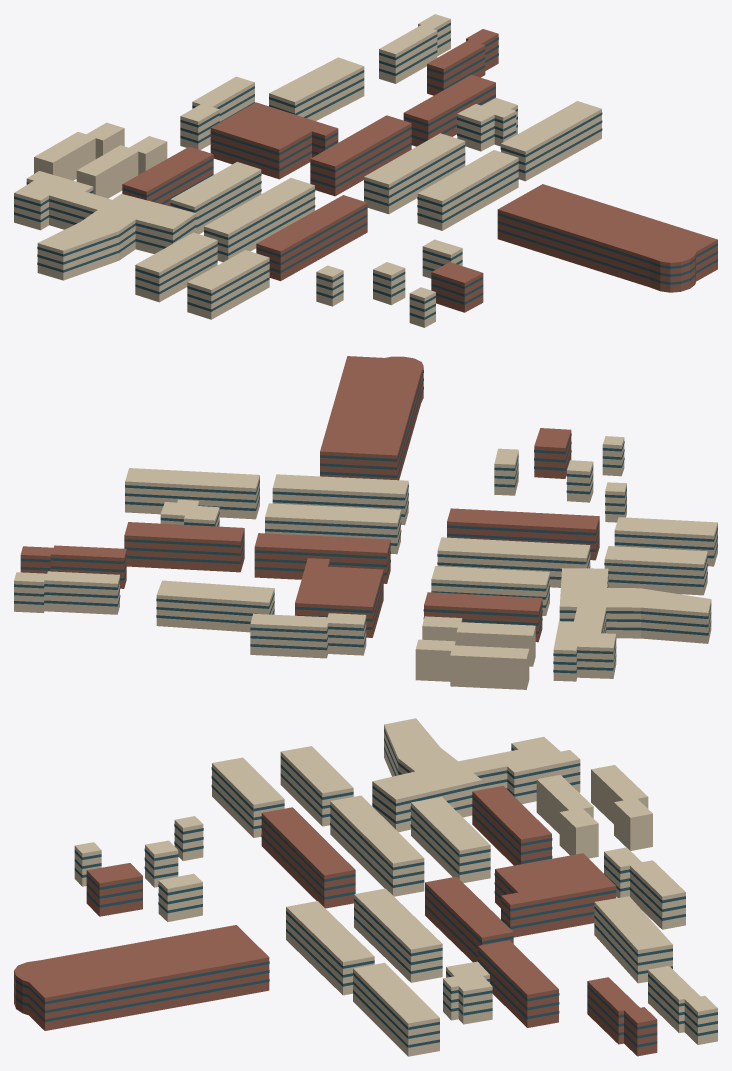
The model's file is city_7_-6.glb.
3 views of the same model, one above another, from view 1: azimuth 30°, elevation 25°; view 2: azimuth 150°, elevation 25°; view 3: azimuth 270°, elevation 25° (orthographic). The views are drawn at different scales.
Parts seen in each view (by area): view 1: city_7_-6; view 2: city_7_-6; view 3: city_7_-6.
Boxes of the visible parts, left/top/right/bottom form: city_7_-6: left=14, top=14, right=717, bottom=327; city_7_-6: left=14, top=356, right=717, bottom=689; city_7_-6: left=14, top=718, right=717, bottom=1056.
Size of the model in its own units: 295 by 15 by 288.
